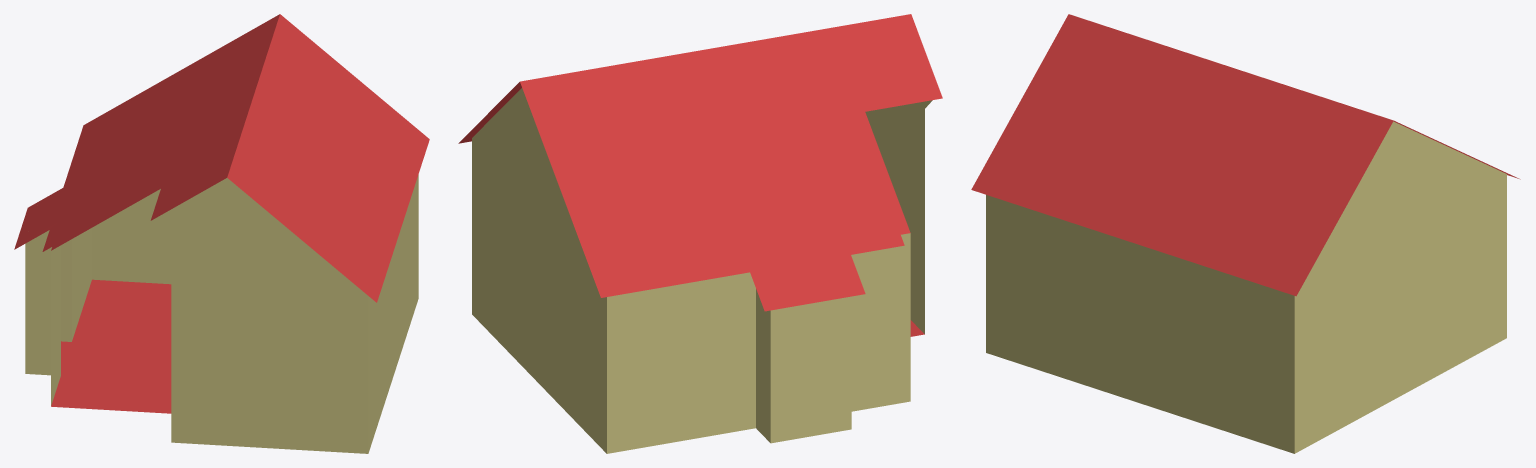
The picture shows the model from 3 angles, left to right: view 1: azimuth 30°, elevation 25°; view 2: azimuth 150°, elevation 25°; view 3: azimuth 270°, elevation 25°; orthographic projection. The views are drawn at different scales.
Size of the model in its own units: 23.24 by 26.31 by 15.11.
